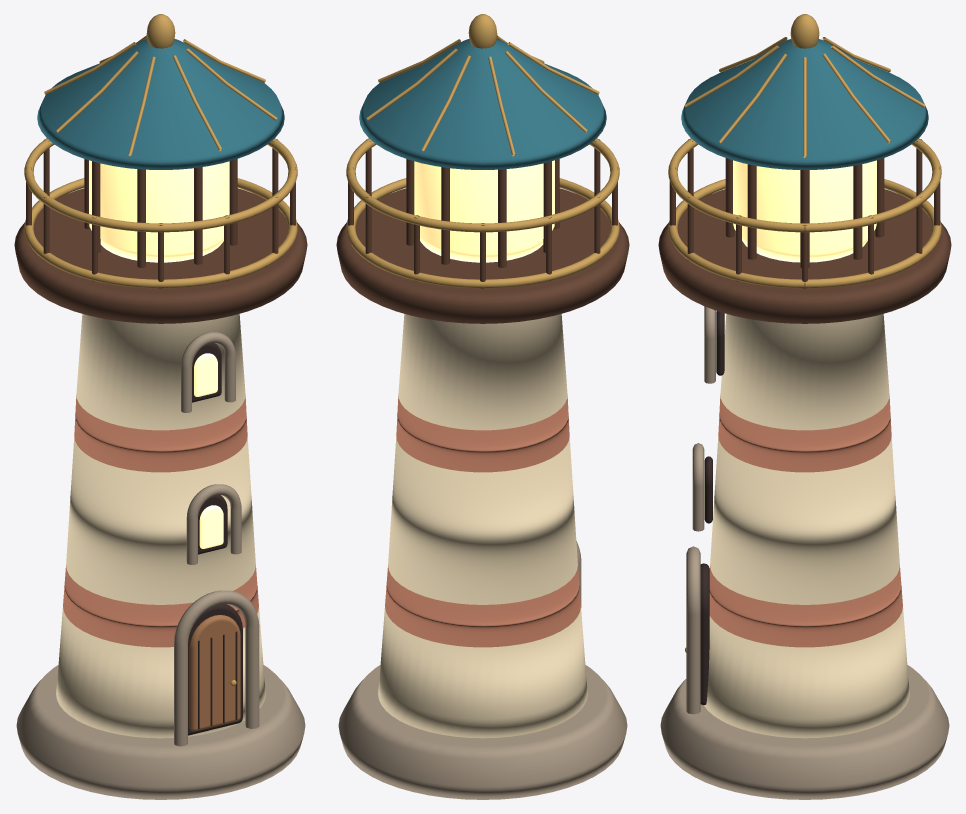
File: lighthouse_crafted.glb
The picture shows the model from 3 angles, left to right: view 1: azimuth 30°, elevation 25°; view 2: azimuth 150°, elevation 25°; view 3: azimuth 270°, elevation 25°; orthographic projection.
Parts seen in each view (by area): view 1: Lime plaster / warm ivory, Rounded limestone footing, Oiled chestnut joinery, Teal ceramic glaze, Faded coral painted masonry, Antique brass, Warm window glass, Honey oak door boards, Deep joinery recess; view 2: Lime plaster / warm ivory, Oiled chestnut joinery, Teal ceramic glaze, Rounded limestone footing, Faded coral painted masonry, Antique brass, Warm window glass; view 3: Lime plaster / warm ivory, Oiled chestnut joinery, Rounded limestone footing, Teal ceramic glaze, Faded coral painted masonry, Antique brass, Warm window glass, Deep joinery recess.
Boxes of the visible parts, box(x1,y1,x2,y2) form: Lime plaster / warm ivory: box(56, 314, 265, 738); Rounded limestone footing: box(16, 332, 305, 799); Oiled chestnut joinery: box(14, 139, 307, 323); Teal ceramic glaze: box(37, 39, 284, 169); Faded coral painted masonry: box(63, 395, 258, 647); Antique brass: box(24, 14, 297, 686); Warm window glass: box(89, 160, 229, 548); Honey oak door boards: box(189, 615, 240, 731); Deep joinery recess: box(188, 343, 242, 735); Lime plaster / warm ivory: box(378, 314, 587, 738); Oiled chestnut joinery: box(336, 139, 629, 323); Teal ceramic glaze: box(359, 39, 606, 169); Rounded limestone footing: box(338, 541, 627, 799); Faded coral painted masonry: box(385, 395, 580, 647); Antique brass: box(346, 14, 619, 288); Warm window glass: box(414, 160, 554, 262); Lime plaster / warm ivory: box(704, 314, 909, 738); Oiled chestnut joinery: box(658, 139, 951, 323); Rounded limestone footing: box(660, 306, 949, 799); Teal ceramic glaze: box(681, 39, 928, 169); Faded coral painted masonry: box(709, 395, 902, 647); Antique brass: box(668, 14, 941, 652); Warm window glass: box(704, 160, 876, 513); Deep joinery recess: box(700, 311, 724, 705).
Bounding box in the file's own units: 1.42 × 3.88 × 1.42.
